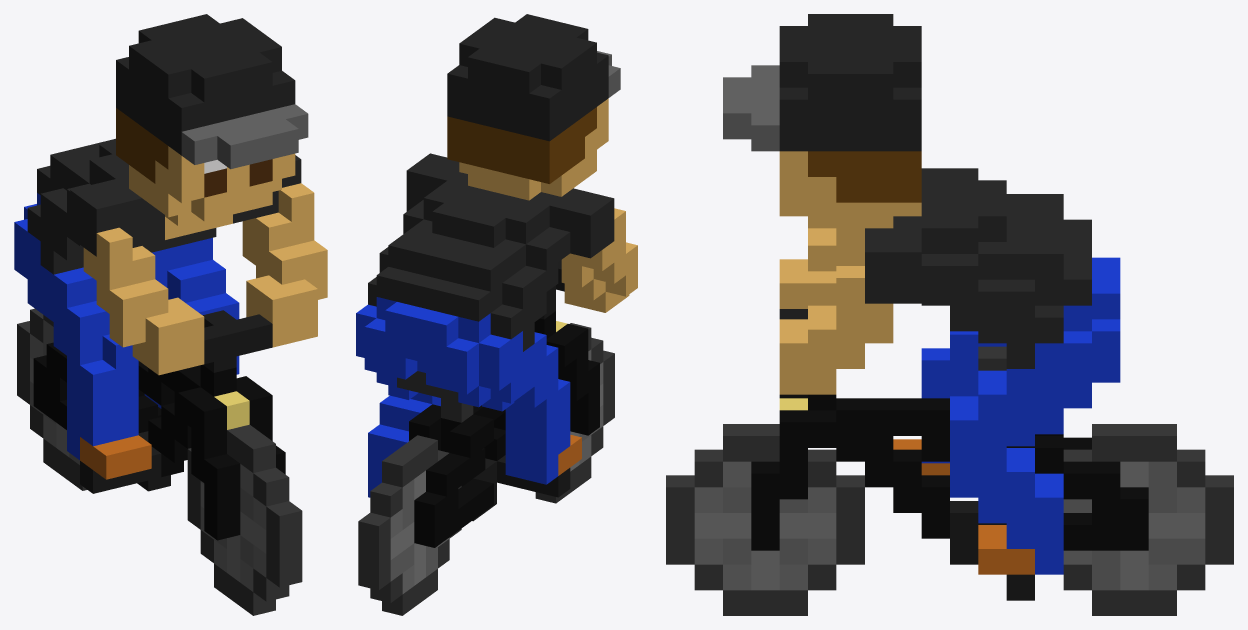
The model's file is animation.obj.
3 views of the same model, side by side, from view 1: azimuth 30°, elevation 25°; view 2: azimuth 150°, elevation 25°; view 3: azimuth 270°, elevation 25° (orthographic). The views are drawn at different scales.
Bounding box in the file's own units: 9 × 22 × 20.
Materials: 1 (1 with a texture image).
